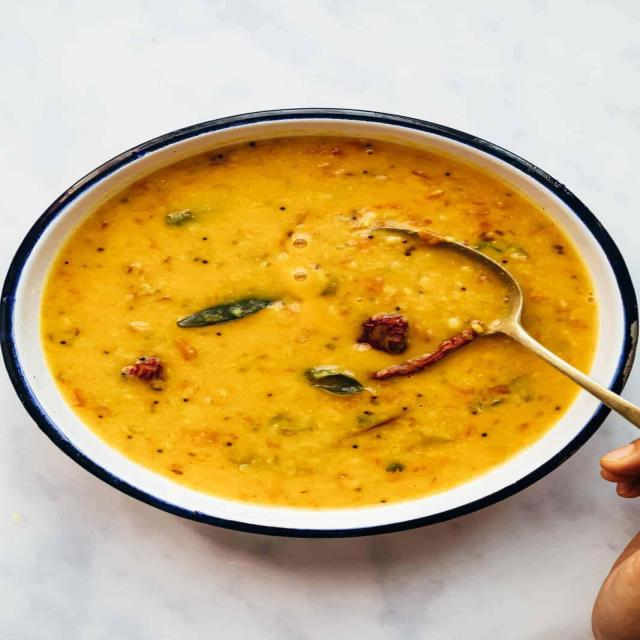dal: (42, 136, 598, 512)
